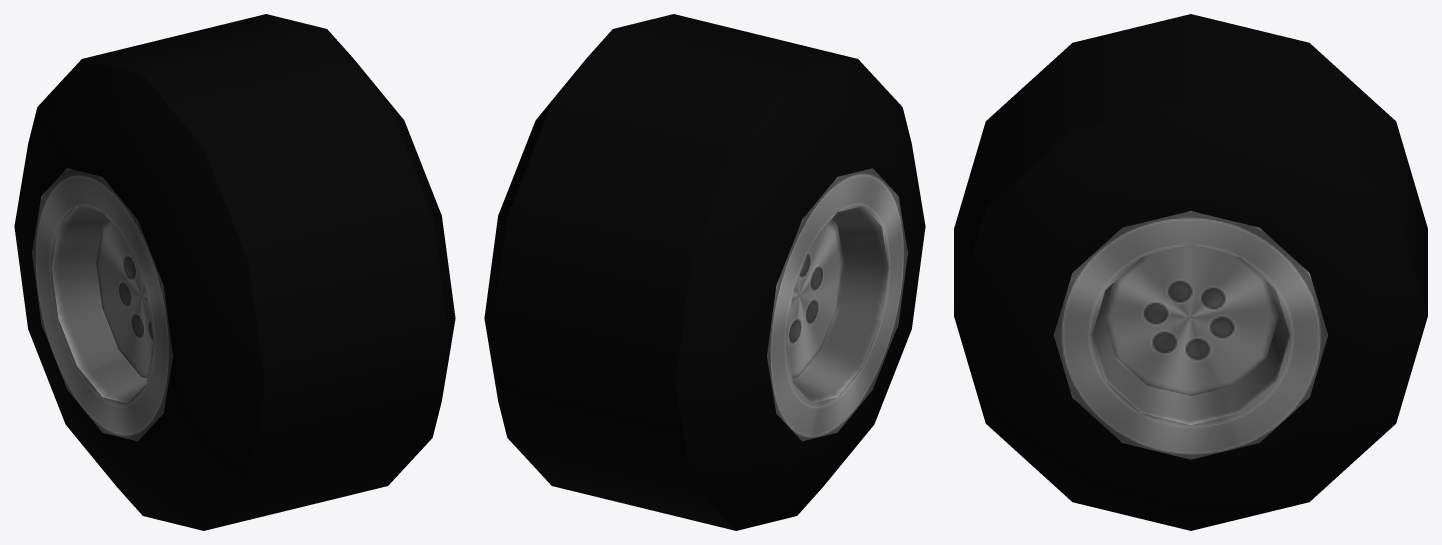
The model's file is wheel_cute.FBX.
3 renders of one model, left to right at view 1: azimuth 30°, elevation 25°; view 2: azimuth 150°, elevation 25°; view 3: azimuth 270°, elevation 25°, orthographic. The views are drawn at different scales.
Parts seen in each view (by area): view 1: wheel_cute; view 2: wheel_cute; view 3: wheel_cute.
Part boxes in pixels (left/top/right/bottom): wheel_cute: left=14, top=14, right=455, bottom=530; wheel_cute: left=484, top=14, right=925, bottom=530; wheel_cute: left=954, top=14, right=1427, bottom=530.
Bounding box in the file's own units: 0.0944 × 0.1504 × 0.1504.
